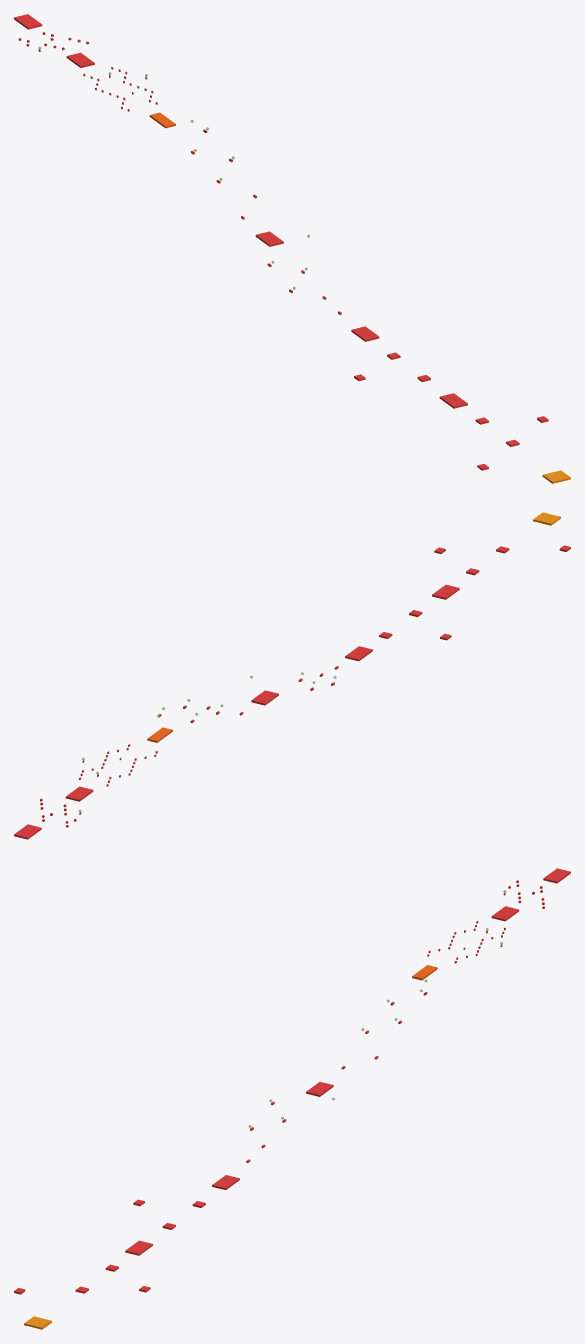
Rendered from level3.glb.
The picture shows the model from 3 angles, top to bottom: view 1: azimuth 30°, elevation 25°; view 2: azimuth 150°, elevation 25°; view 3: azimuth 330°, elevation 25°; orthographic projection.
Size of the model in its own units: 116 by 83.43 by 1072.
Materials: 3 (3 with a texture image).
